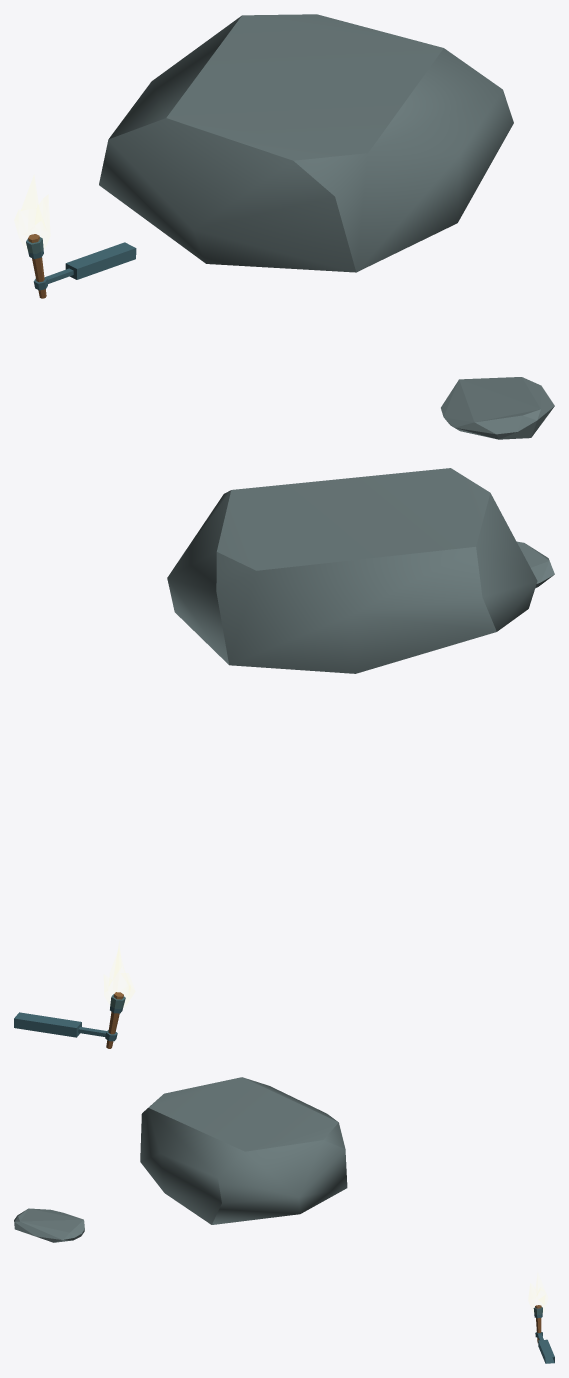
The picture shows the model from 3 angles, top to bottom: view 1: azimuth 30°, elevation 25°; view 2: azimuth 150°, elevation 25°; view 3: azimuth 270°, elevation 25°; orthographic projection. The views are drawn at different scales.
Parts seen in each view (by area): view 1: Box899_rock_0, Box879_rock_0, Cylinder1654_metal_0; view 2: Box899_rock_0, Cylinder1654_metal_0, Box879_rock_0; view 3: Box899_rock_0, Box879_rock_0, Cylinder1654_metal_0.
Boxes of the visible parts, x1,y1,x2,y2 form: Box899_rock_0: (99,14,513,272); Box879_rock_0: (441,377,554,439); Cylinder1654_metal_0: (26,237,136,290); Box899_rock_0: (167,468,537,673); Cylinder1654_metal_0: (14,994,125,1041); Box879_rock_0: (517,541,554,588); Box899_rock_0: (140,1077,347,1224); Box879_rock_0: (14,1208,84,1242); Cylinder1654_metal_0: (533,1307,554,1363).
Bounding box in the file's own units: 484 × 514 × 1114.
